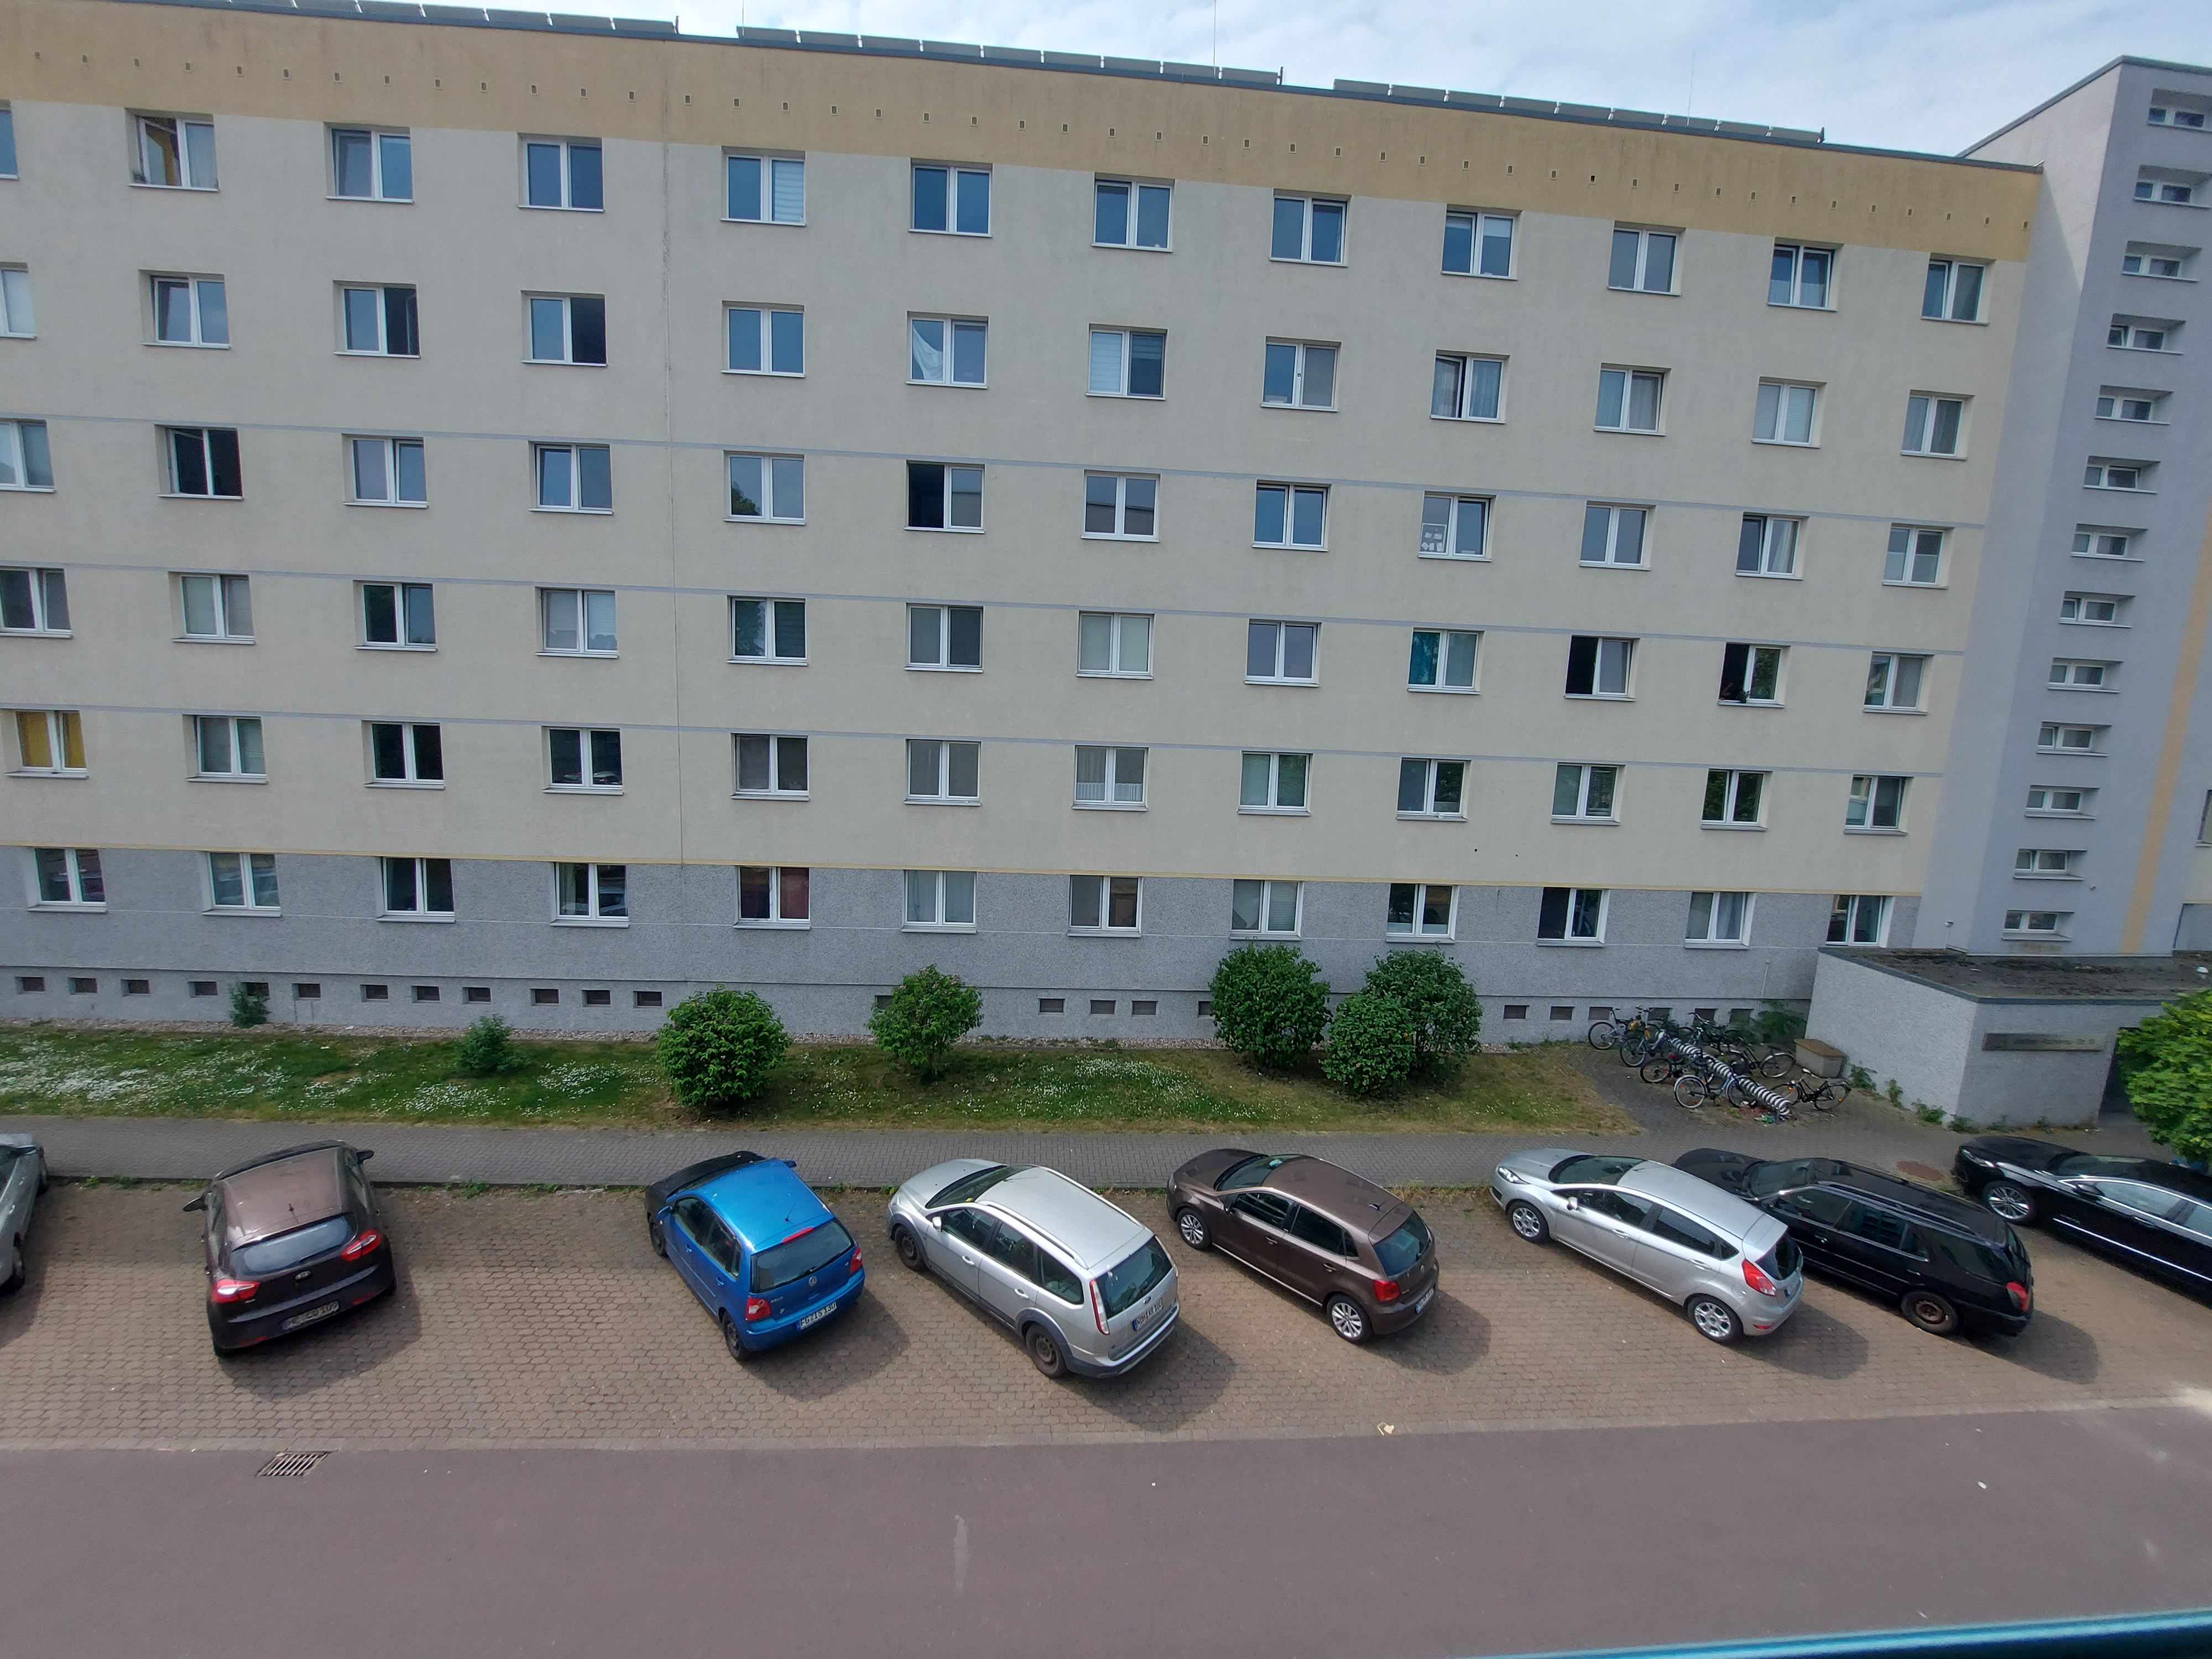spot: (2073, 1148, 2212, 1288), (1674, 1211, 1813, 1351), (735, 1227, 874, 1366), (1061, 1239, 1200, 1378), (1474, 1227, 1613, 1366), (1897, 1206, 2036, 1344), (242, 1222, 380, 1361), (507, 1232, 646, 1370), (1320, 1202, 1458, 1342), (1179, 1239, 1317, 1377)
